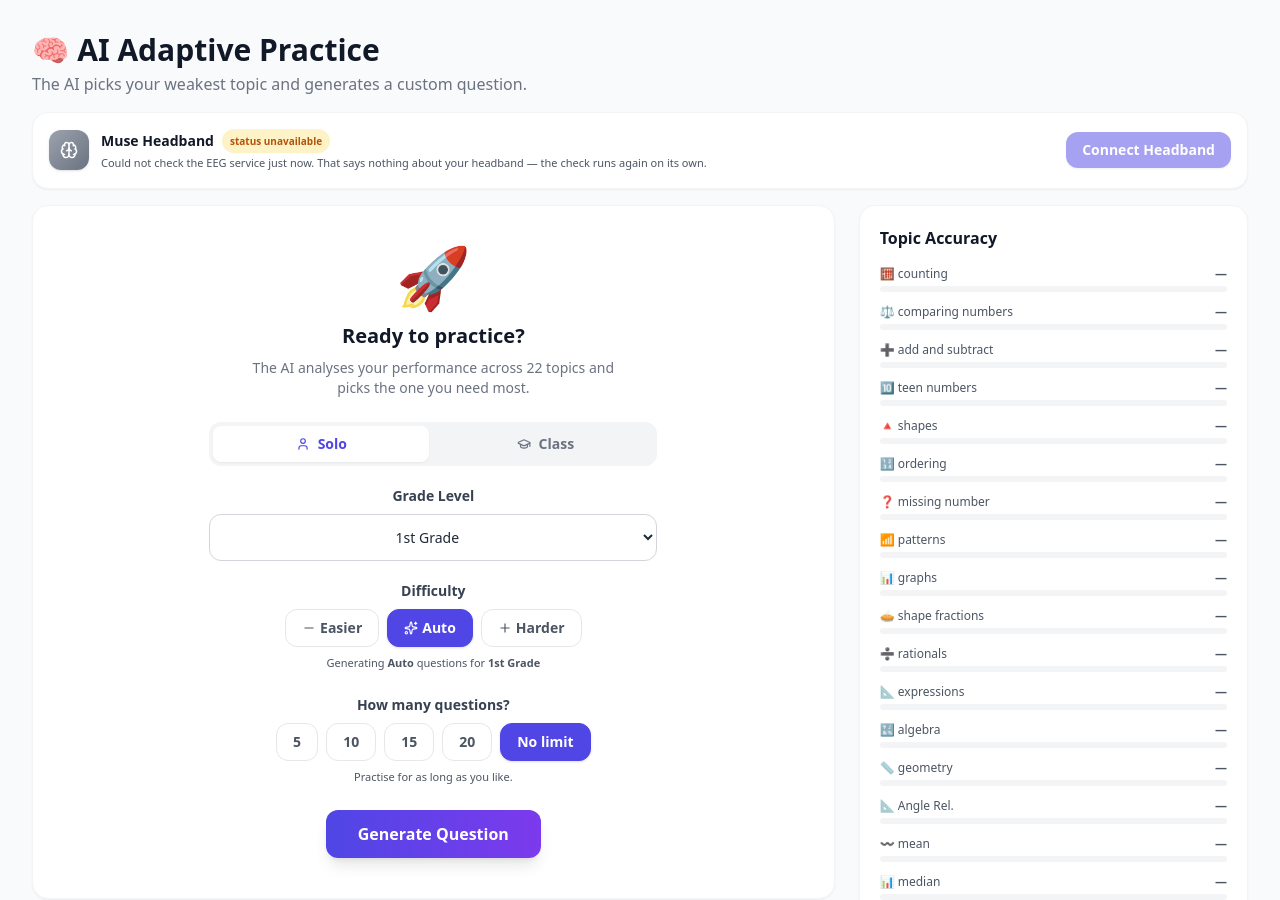
lets an answered status tick clear a refusal the health probe could not
Expected: the text "status unavailable" is shown, x1=222 y1=129 x2=330 y2=153
Step 1. Click the button "Generate Question" → (433, 834), box x1=326 y1=810 x2=541 y2=858
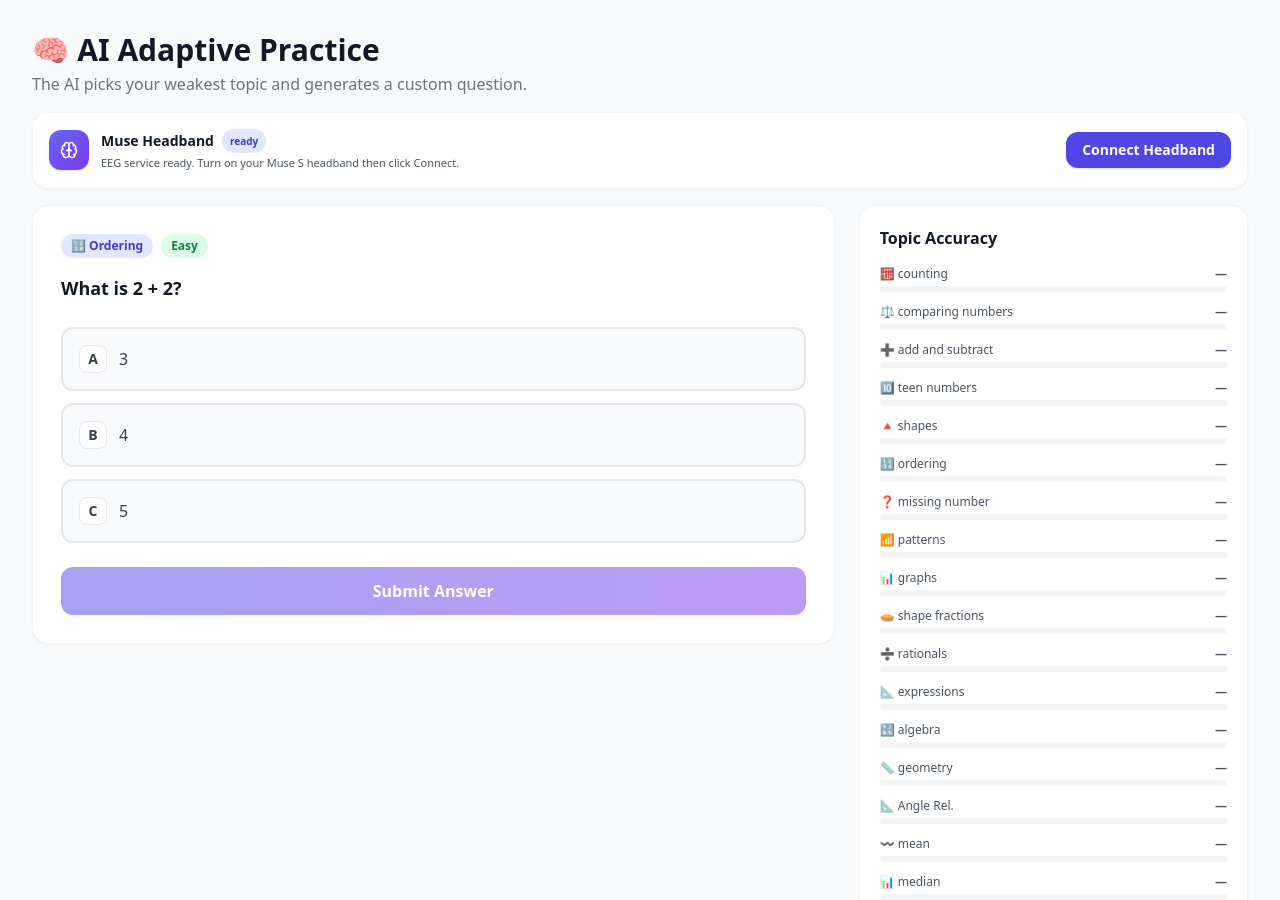
Expected: the text "What is 2 + 2?" is shown, x1=61 y1=276 x2=182 y2=300
Expected: the text "ready" is shown, x1=222 y1=129 x2=266 y2=153
Expected: the text "status unavailable" is gone
